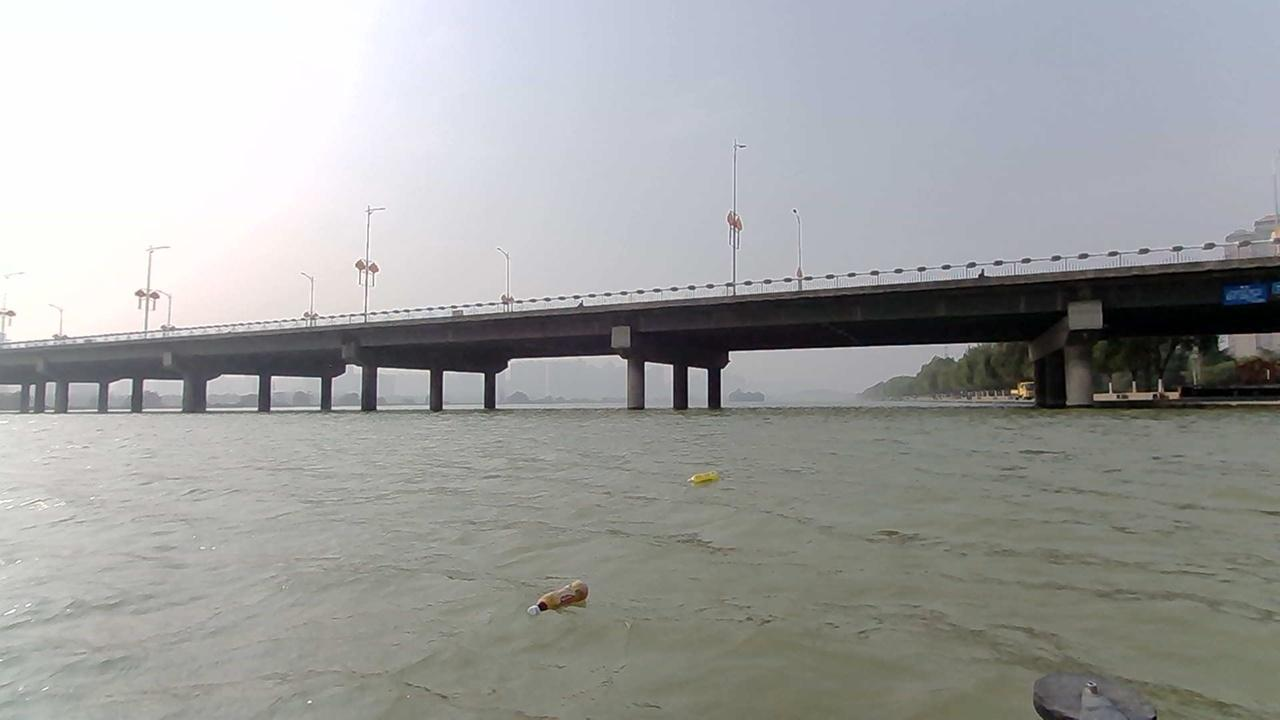bottle: (526, 578, 589, 615), (686, 470, 718, 482)
